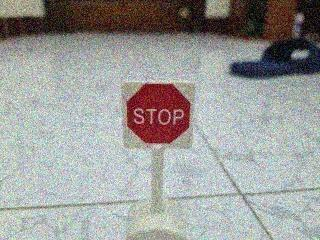stop: (111, 74, 205, 159)
